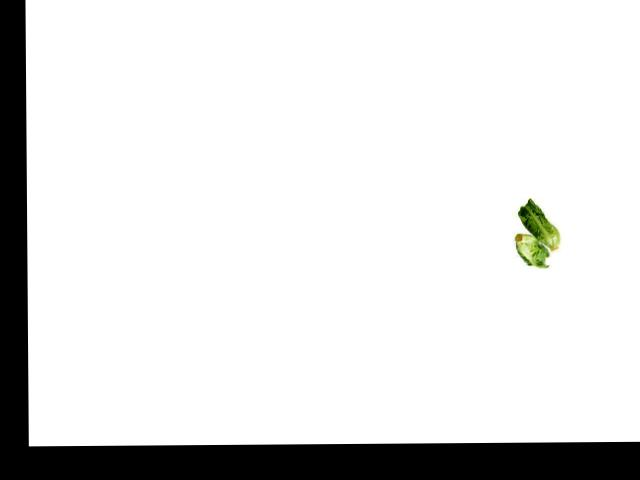lettuce: (506, 201, 561, 270)
